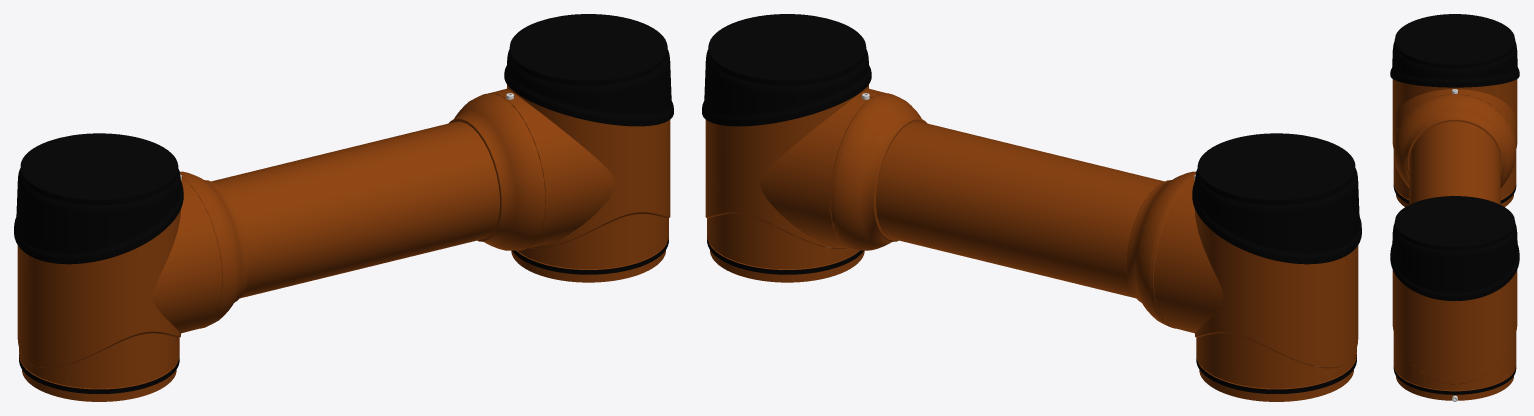
Rendered from upperArm_Link.DAE.
The picture shows the model from 3 angles, left to right: view 1: azimuth 30°, elevation 25°; view 2: azimuth 150°, elevation 25°; view 3: azimuth 270°, elevation 25°; orthographic projection. The views are drawn at different scales.
Parts seen in each view (by area): view 1: NONE-DC_Shell, NONE-DC_Shell_ncl1_1, NONE-DC_Shell_ncl1_4, NONE-DC_Shell_ncl1_7, NONE-DC_Shell_ncl1_8, NONE-DC_Shell_ncl1_5, NONE-DC_Shell_ncl1_2, NONE-DC_Shell_ncl1_3, NONE-DC_Shell_ncl1_6; view 2: NONE-DC_Shell, NONE-DC_Shell_ncl1_1, NONE-DC_Shell_ncl1_4, NONE-DC_Shell_ncl1_7, NONE-DC_Shell_ncl1_8, NONE-DC_Shell_ncl1_5, NONE-DC_Shell_ncl1_2, NONE-DC_Shell_ncl1_3, NONE-DC_Shell_ncl1_6; view 3: NONE-DC_Shell_ncl1_4, NONE-DC_Shell_ncl1_8, NONE-DC_Shell, NONE-DC_Shell_ncl1_7, NONE-DC_Shell_ncl1_1, NONE-DC_Shell_ncl1_5, NONE-DC_Shell_ncl1_6, NONE-DC_Shell_ncl1_3, NONE-DC_Shell_ncl1_2.
Part boxes in pixels (bbox=[...]): NONE-DC_Shell: bbox=[160, 93, 545, 328]; NONE-DC_Shell_ncl1_1: bbox=[17, 178, 222, 389]; NONE-DC_Shell_ncl1_4: bbox=[488, 84, 670, 269]; NONE-DC_Shell_ncl1_7: bbox=[14, 133, 183, 264]; NONE-DC_Shell_ncl1_8: bbox=[504, 14, 673, 126]; NONE-DC_Shell_ncl1_5: bbox=[511, 247, 665, 282]; NONE-DC_Shell_ncl1_2: bbox=[22, 366, 176, 401]; NONE-DC_Shell_ncl1_3: bbox=[19, 354, 179, 393]; NONE-DC_Shell_ncl1_6: bbox=[512, 237, 668, 274]; NONE-DC_Shell: bbox=[830, 93, 1195, 328]; NONE-DC_Shell_ncl1_1: bbox=[1153, 178, 1358, 389]; NONE-DC_Shell_ncl1_4: bbox=[705, 84, 887, 269]; NONE-DC_Shell_ncl1_7: bbox=[1192, 133, 1361, 264]; NONE-DC_Shell_ncl1_8: bbox=[702, 14, 871, 126]; NONE-DC_Shell_ncl1_5: bbox=[710, 225, 864, 282]; NONE-DC_Shell_ncl1_2: bbox=[1199, 356, 1353, 401]; NONE-DC_Shell_ncl1_3: bbox=[1196, 354, 1356, 393]; NONE-DC_Shell_ncl1_6: bbox=[707, 237, 863, 274]; NONE-DC_Shell_ncl1_4: bbox=[1392, 270, 1517, 391]; NONE-DC_Shell_ncl1_8: bbox=[1390, 196, 1519, 301]; NONE-DC_Shell: bbox=[1394, 94, 1515, 204]; NONE-DC_Shell_ncl1_7: bbox=[1390, 14, 1519, 87]; NONE-DC_Shell_ncl1_1: bbox=[1392, 79, 1517, 199]; NONE-DC_Shell_ncl1_5: bbox=[1396, 376, 1513, 400]; NONE-DC_Shell_ncl1_6: bbox=[1393, 366, 1516, 394]; NONE-DC_Shell_ncl1_3: bbox=[1393, 184, 1516, 203]; NONE-DC_Shell_ncl1_2: bbox=[1396, 194, 1513, 206].
Bounding box in the file's own units: 0.5314 × 0.1226 × 0.1614.
